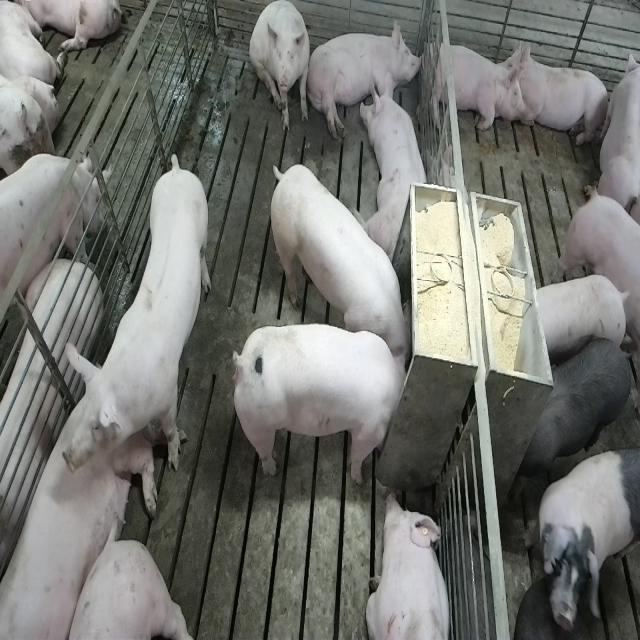Feeding: (265, 160, 412, 364), (227, 321, 409, 484)
Lateral_lying: (306, 15, 424, 141)
Sitting: (250, 1, 312, 134)
Standing: (58, 160, 212, 488), (0, 156, 100, 348), (515, 336, 638, 490), (535, 450, 636, 628), (555, 186, 637, 360), (532, 273, 629, 359)
Sternal_lying: (0, 366, 150, 634), (365, 490, 453, 640), (365, 72, 433, 260), (511, 42, 612, 149), (423, 36, 528, 138)
